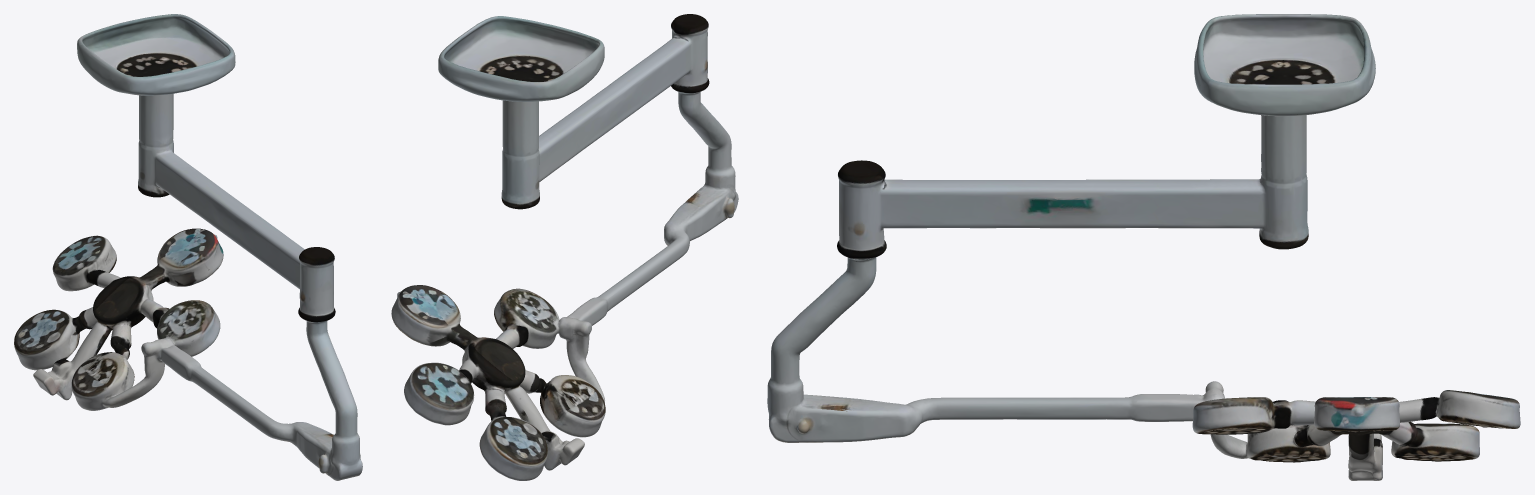
The model's file is OT light.glb.
The picture shows the model from 3 angles, left to right: view 1: azimuth 30°, elevation 25°; view 2: azimuth 150°, elevation 25°; view 3: azimuth 270°, elevation 25°; orthographic projection. The views are drawn at different scales.
Parts seen in each view (by area): view 1: tripo_node_84c5c7b8-7d07-4b76-b716-4cc34a3fa95c; view 2: tripo_node_84c5c7b8-7d07-4b76-b716-4cc34a3fa95c; view 3: tripo_node_84c5c7b8-7d07-4b76-b716-4cc34a3fa95c.
Boxes of the visible parts, x1=… form: tripo_node_84c5c7b8-7d07-4b76-b716-4cc34a3fa95c: x1=14, y1=14, x2=362, y2=480; tripo_node_84c5c7b8-7d07-4b76-b716-4cc34a3fa95c: x1=391, y1=14, x2=738, y2=480; tripo_node_84c5c7b8-7d07-4b76-b716-4cc34a3fa95c: x1=767, y1=14, x2=1520, y2=480.
Size of the model in its own units: 0.3392 by 0.6557 by 0.9484.
Materials: 1 (1 with a texture image).
